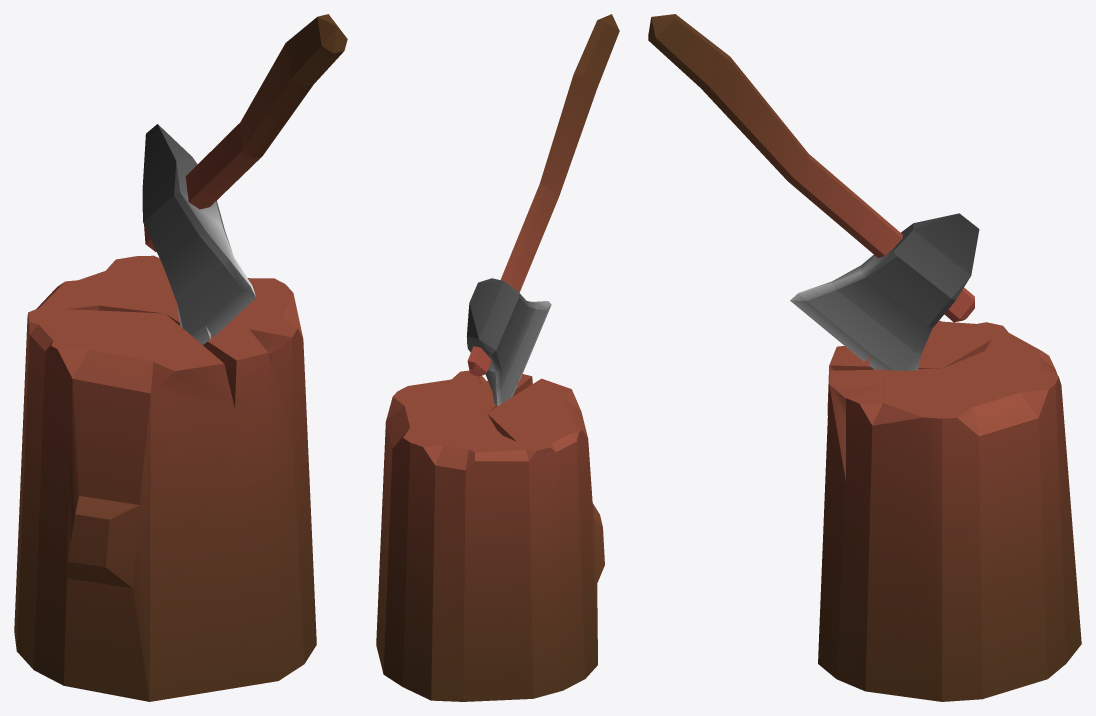
The model's file is ChoppingBlockWithHatchet.fbx.
3 renders of one model, left to right at view 1: azimuth 30°, elevation 25°; view 2: azimuth 150°, elevation 25°; view 3: azimuth 270°, elevation 25°, orthographic. The views are drawn at different scales.
Visible parts, largest first — view 1: ChoppingBlockWithHatchet; view 2: ChoppingBlockWithHatchet; view 3: ChoppingBlockWithHatchet.
Part boxes in pixels (x1,y1,x2,y2): ChoppingBlockWithHatchet: (14, 14, 347, 701); ChoppingBlockWithHatchet: (376, 14, 619, 701); ChoppingBlockWithHatchet: (648, 14, 1081, 701).
Bounding box in the file's own units: 0.00474 × 0.0126 × 0.00787.
